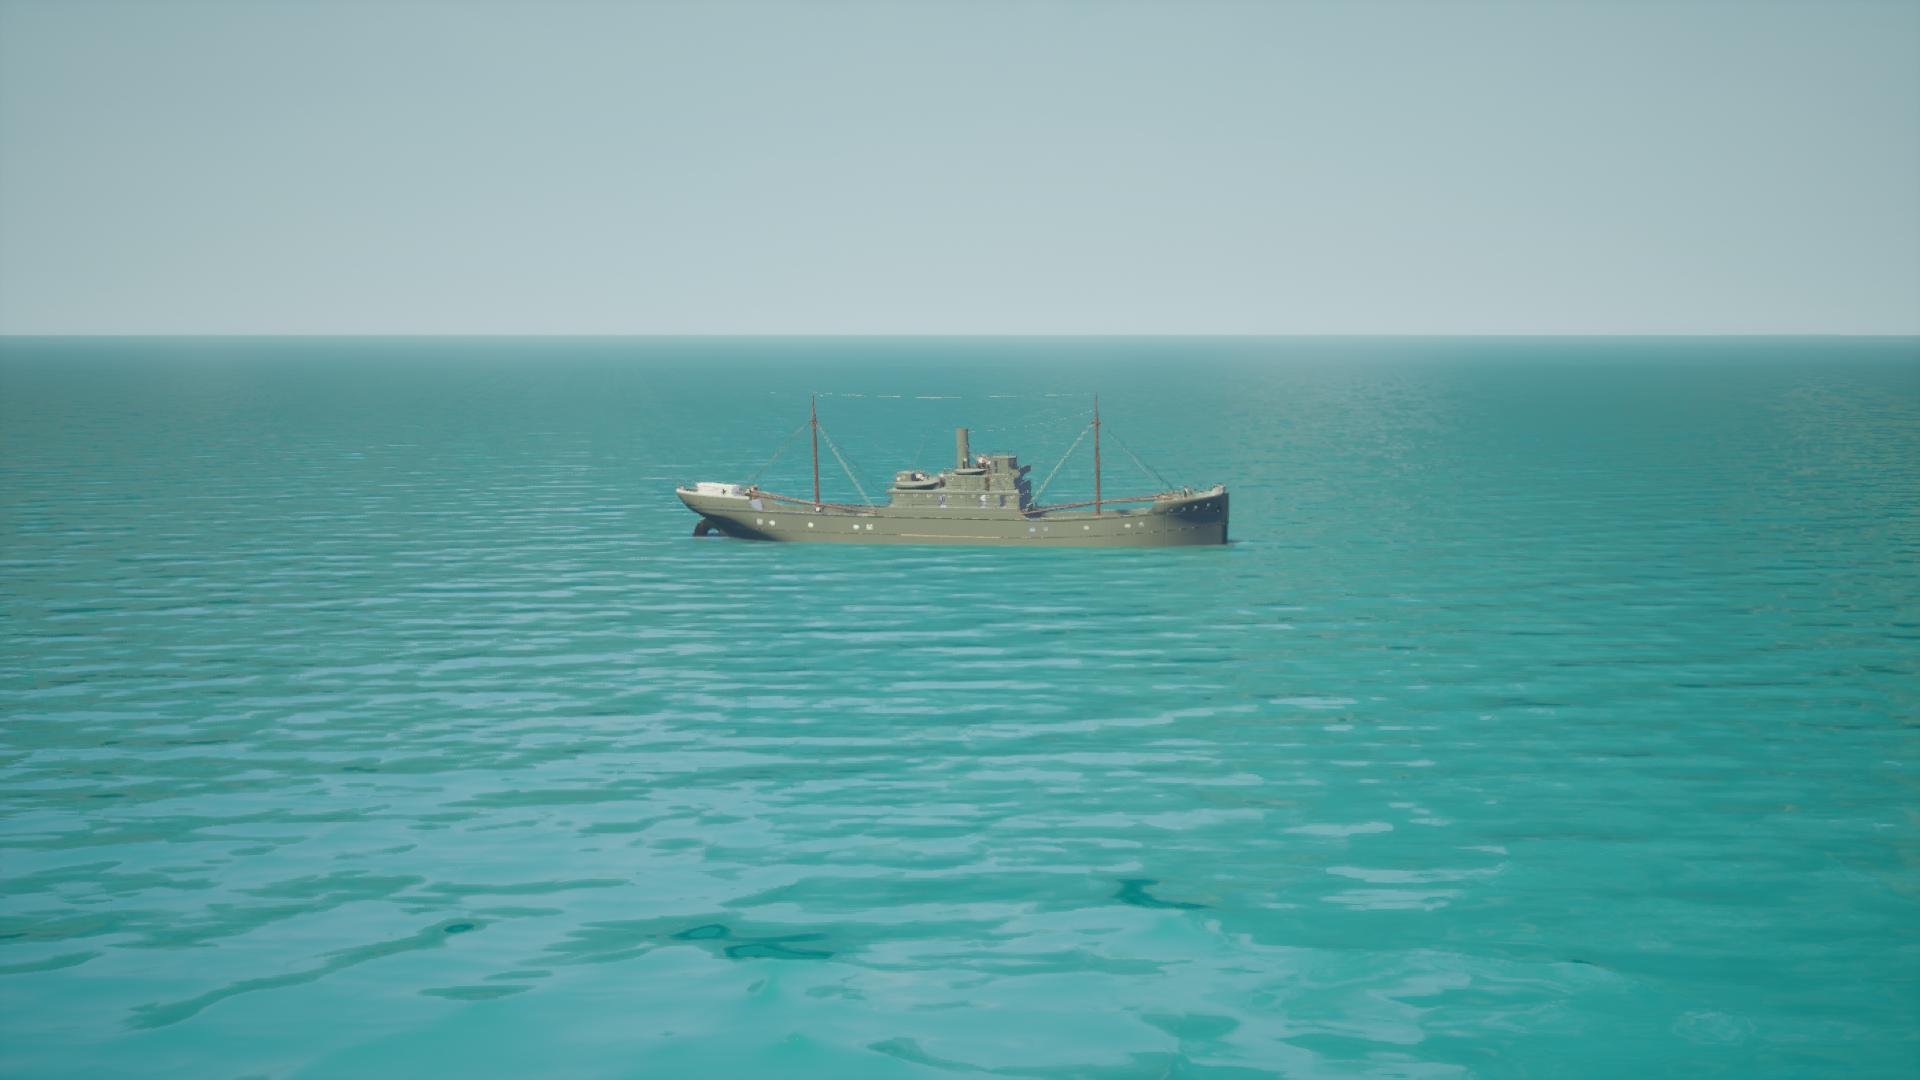Fishing Boat: (673, 392, 1232, 546)
